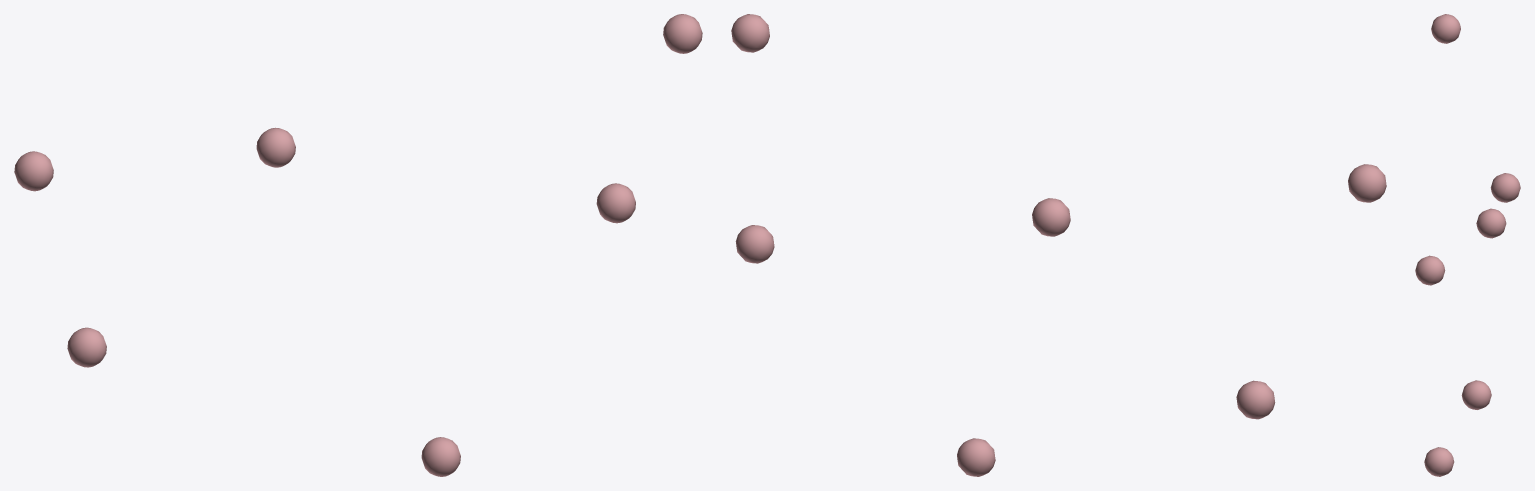
3 renders of one model, left to right at view 1: azimuth 30°, elevation 25°; view 2: azimuth 150°, elevation 25°; view 3: azimuth 270°, elevation 25°, orthographic. The views are drawn at different scales.
Visible parts, largest first — view 1: ZA_6c00f28e6b42503a; view 2: ZA_6c00f28e6b42503a; view 3: ZA_6c00f28e6b42503a.
Part boxes in pixels (x1,y1,x2,y2): ZA_6c00f28e6b42503a: (14,14,702,476); ZA_6c00f28e6b42503a: (731,14,1386,476); ZA_6c00f28e6b42503a: (1415,14,1520,476).
Bounding box in the file's own units: 0.0504 × 0.0299 × 0.00914.
